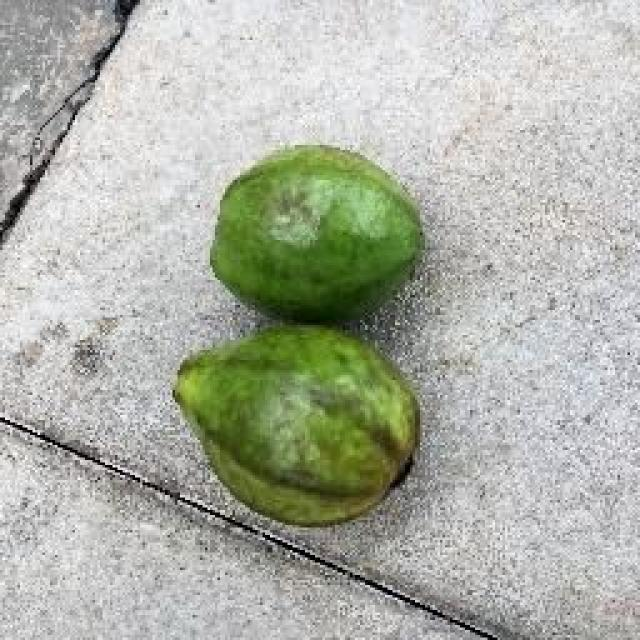Good_Guava: (208, 145, 425, 328)
